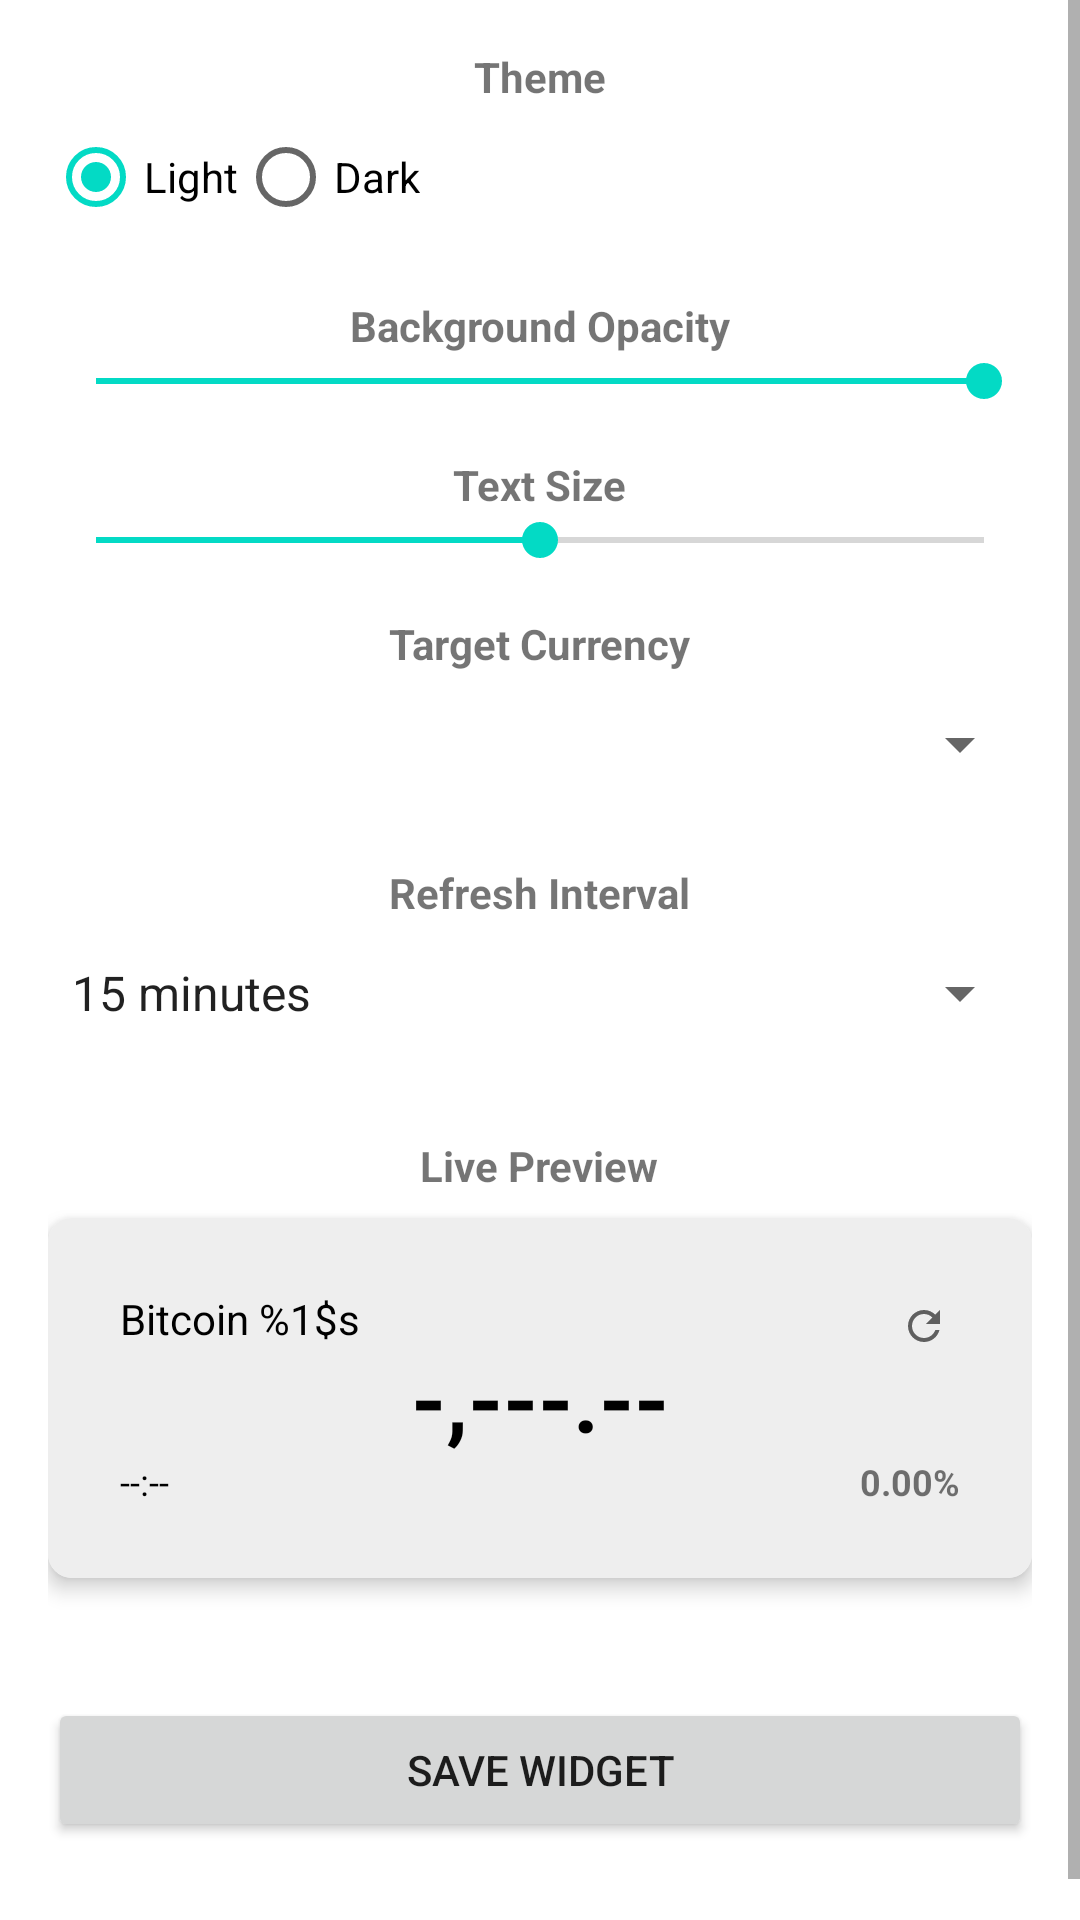

Named icons in this screenshot (1080w x 1920h) and their bounding boxes, bbox(x1, y1, x2, y2):
Refresh: bbox(908, 1310, 940, 1342)
